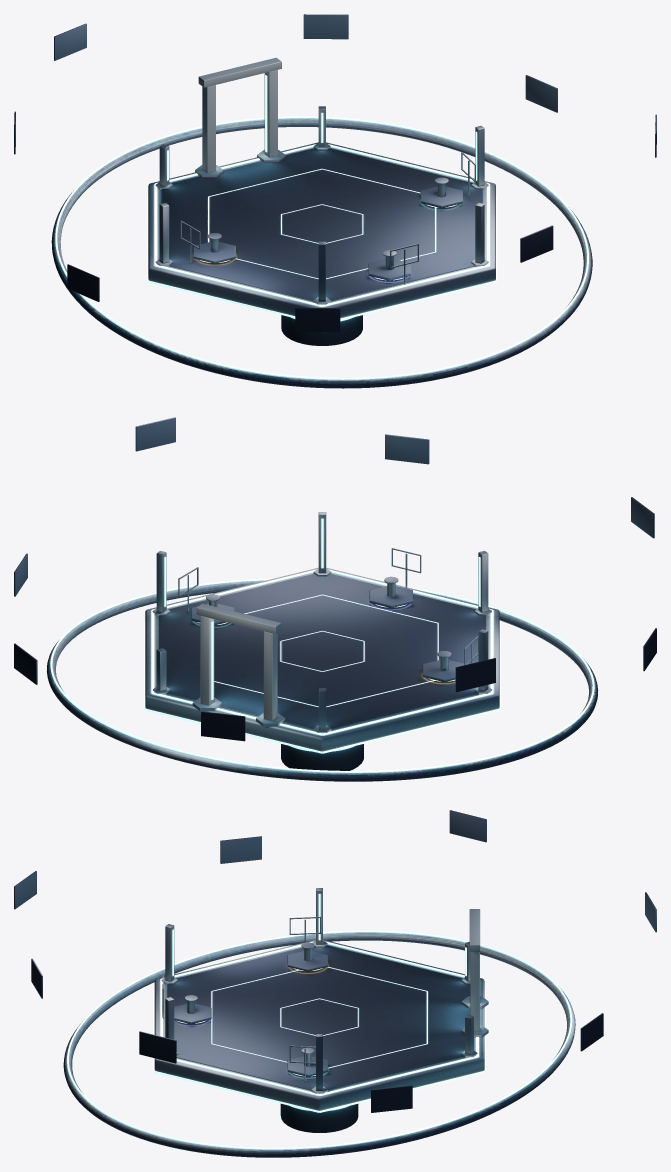
File: stage-orbit-m.glb
The picture shows the model from 3 angles, top to bottom: view 1: azimuth 30°, elevation 25°; view 2: azimuth 150°, elevation 25°; view 3: azimuth 270°, elevation 25°; orthographic projection. The views are drawn at different scales.
Parts seen in each view (by area): view 1: BK_top, BK_ring, BK_deck, BK_panels, BK_gate, BK_pylons, EM_ring, BK_pedestals, EM_rim_top, BK_core, EM_rim_under, EM_rim_inner (+1 smaller); view 2: BK_top, BK_ring, BK_deck, BK_panels, BK_gate, BK_pylons, EM_ring, EM_rim_top, BK_pedestals, BK_core, EM_rim_under, BK_frames (+1 smaller); view 3: BK_top, BK_ring, BK_deck, BK_panels, EM_ring, BK_pylons, BK_pedestals, EM_rim_top, BK_core, BK_gate, EM_rim_under, EM_rim_inner.
Boxes of the visible parts, left/top/right/bottom form: BK_top: left=161, top=148, right=482, bottom=301; BK_ring: left=51, top=118, right=592, bottom=388; BK_deck: left=148, top=142, right=495, bottom=318; BK_panels: left=14, top=14, right=656, bottom=332; BK_gate: left=195, top=57, right=285, bottom=177; BK_pylons: left=155, top=106, right=488, bottom=304; EM_ring: left=55, top=116, right=588, bottom=379; BK_pedestals: left=193, top=177, right=462, bottom=280; EM_rim_top: left=154, top=144, right=489, bottom=306; BK_core: left=281, top=315, right=362, bottom=345; EM_rim_under: left=147, top=195, right=497, bottom=320; EM_rim_inner: left=208, top=168, right=436, bottom=279; BK_top: left=159, top=573, right=485, bottom=729; BK_ring: left=47, top=580, right=598, bottom=781; BK_deck: left=145, top=567, right=499, bottom=751; BK_panels: left=14, top=417, right=656, bottom=741; BK_gate: left=192, top=603, right=285, bottom=726; BK_pylons: left=152, top=512, right=492, bottom=733; EM_ring: left=50, top=578, right=594, bottom=772; EM_rim_top: left=151, top=569, right=493, bottom=735; BK_pedestals: left=191, top=576, right=464, bottom=682; BK_core: left=281, top=744, right=363, bottom=770; EM_rim_under: left=144, top=621, right=500, bottom=753; BK_frames: left=178, top=548, right=478, bottom=665; BK_top: left=167, top=945, right=470, bottom=1090; BK_ring: left=63, top=932, right=575, bottom=1157; BK_deck: left=154, top=939, right=484, bottom=1110; BK_panels: left=14, top=810, right=656, bottom=1112; EM_ring: left=67, top=930, right=572, bottom=1149; BK_pylons: left=161, top=888, right=477, bottom=1093; BK_pedestals: left=174, top=942, right=327, bottom=1076; EM_rim_top: left=160, top=941, right=478, bottom=1095; BK_core: left=280, top=1103, right=358, bottom=1132; BK_gate: left=461, top=909, right=488, bottom=1037; EM_rim_under: left=153, top=989, right=485, bottom=1112; EM_rim_inner: left=211, top=966, right=427, bottom=1068.
Bounding box in the file's own units: 30.94 × 11.15 × 33.08.
15 materials, 10 textured.
